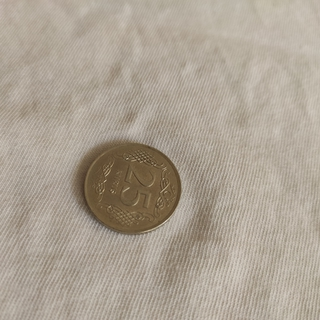25KURUS: (81, 141, 182, 235)
